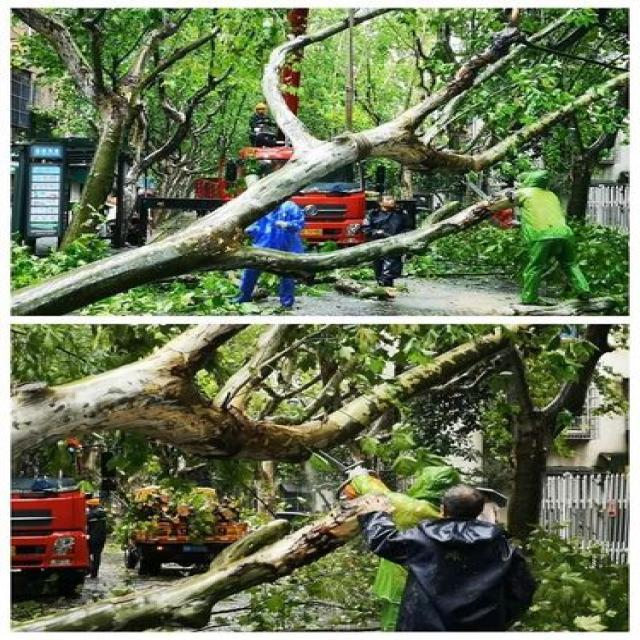fallen_object: (14, 9, 628, 316), (9, 496, 413, 633)
